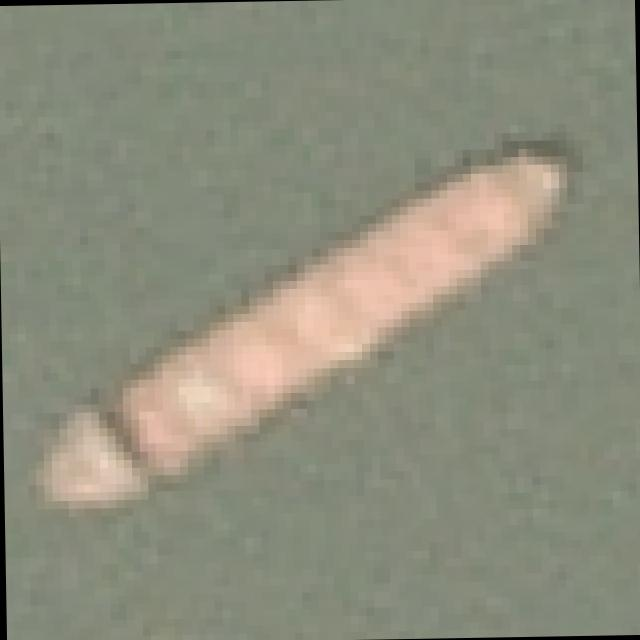ship: (20, 107, 599, 538)
